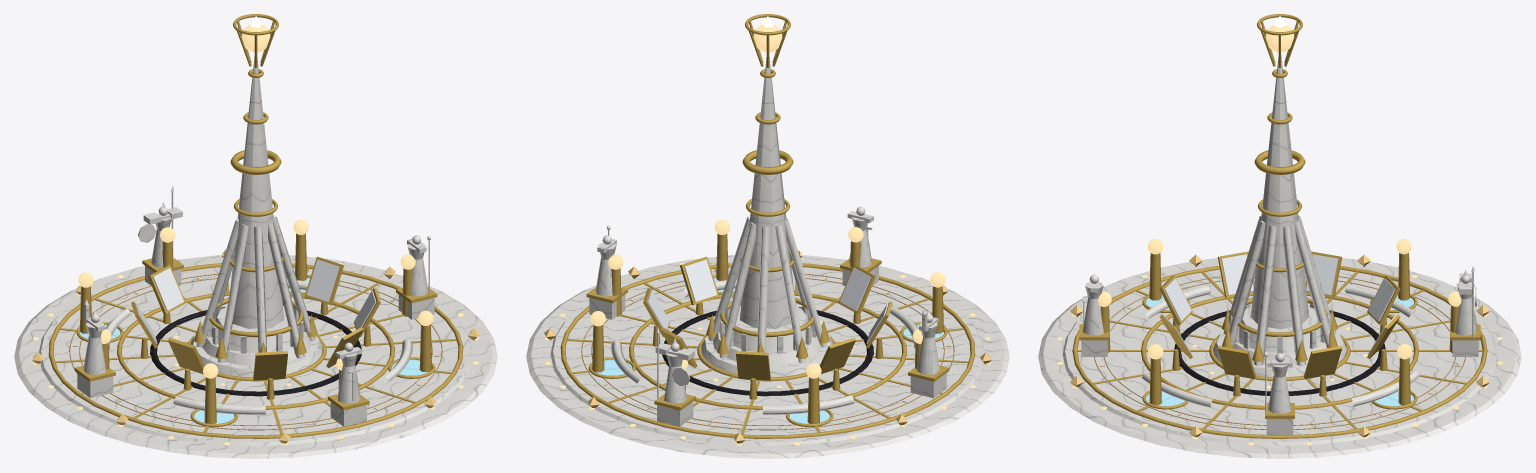
Rendered from spotlight-lance-plaza.glb.
The picture shows the model from 3 angles, left to right: view 1: azimuth 30°, elevation 25°; view 2: azimuth 150°, elevation 25°; view 3: azimuth 270°, elevation 25°; orthographic projection.
Visible parts, largest first — view 1: Spotlight_Lance_Plaza, object 36, object 35; view 2: Spotlight_Lance_Plaza, object 36, object 35; view 3: Spotlight_Lance_Plaza, object 36, object 35.
Boxes of the visible parts, x1,y1,x2,y2 form: Spotlight_Lance_Plaza: (14,14,497,458); object 36: (69,273,442,430); object 35: (79,278,432,425); Spotlight_Lance_Plaza: (526,14,1009,458); object 36: (581,273,954,430); object 35: (591,278,944,425); Spotlight_Lance_Plaza: (1038,14,1521,458); object 36: (1094,276,1465,429); object 35: (1104,277,1455,425).
Bounding box in the file's own units: 99 × 77.06 × 99.
9 materials, 2 textured.
